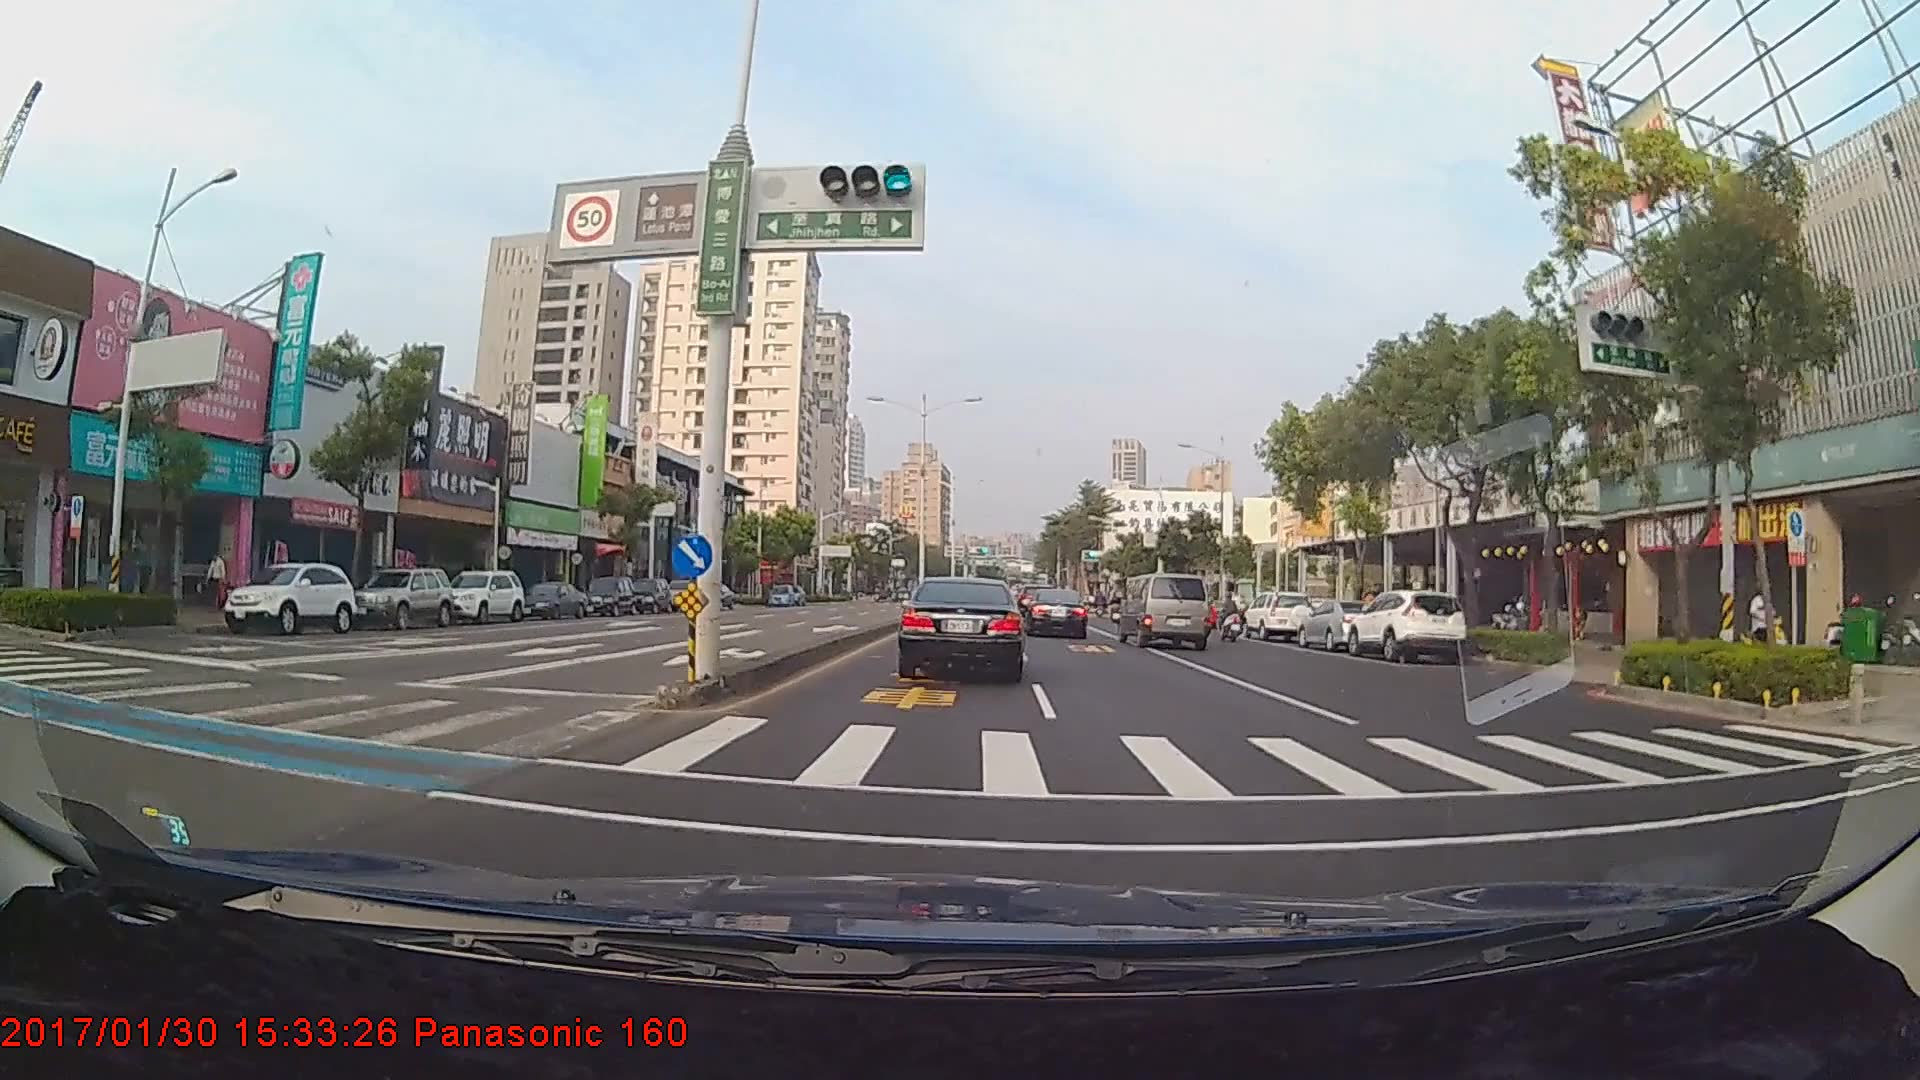pedestrian: (205, 554, 229, 617)
rider: (1211, 592, 1248, 642)
vehicle: (900, 574, 1021, 682), (218, 562, 354, 634), (1341, 587, 1469, 662), (342, 565, 450, 630), (1119, 574, 1211, 649), (439, 569, 528, 626), (1294, 598, 1386, 650), (1020, 588, 1088, 640), (1243, 592, 1312, 642), (510, 579, 586, 622), (580, 574, 635, 615), (625, 575, 672, 613)
